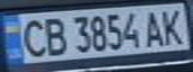3: (69, 12, 90, 54)
4: (121, 10, 145, 48)
5: (106, 10, 127, 51)
8: (87, 11, 109, 52)
A: (142, 7, 169, 48)
B: (39, 15, 69, 56)
C: (15, 16, 51, 58)
K: (157, 6, 190, 46)
